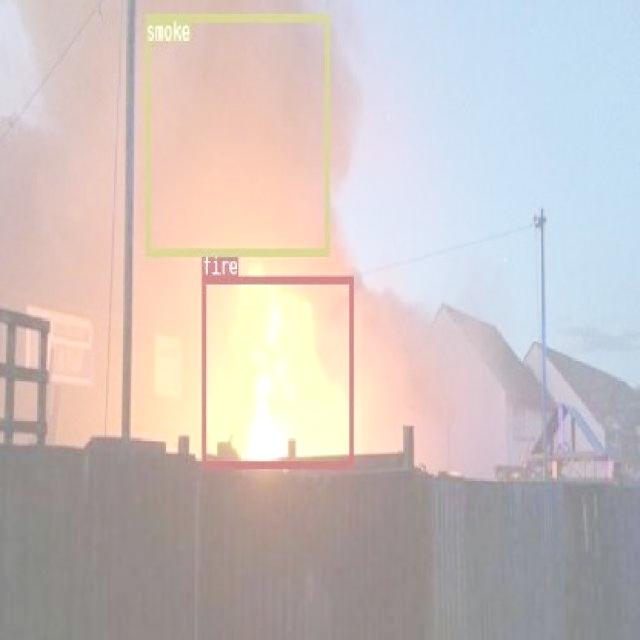fire: (200, 276, 354, 467)
smoke: (144, 12, 328, 256)
